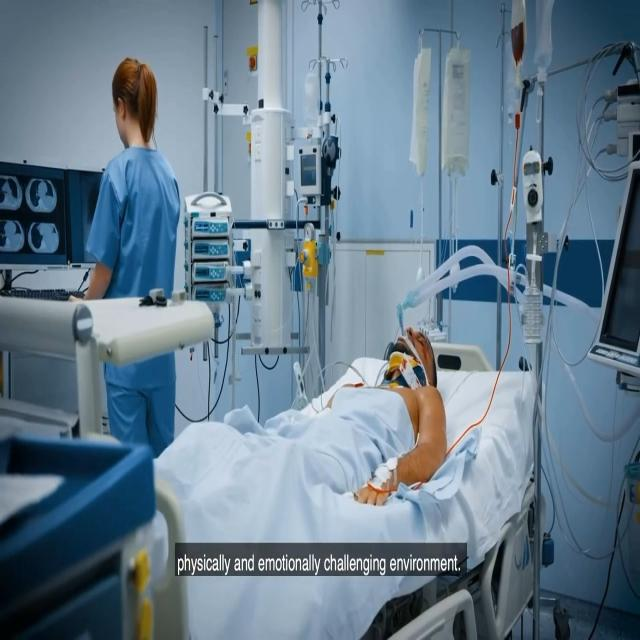Movement-NO: (342, 280, 451, 487)
